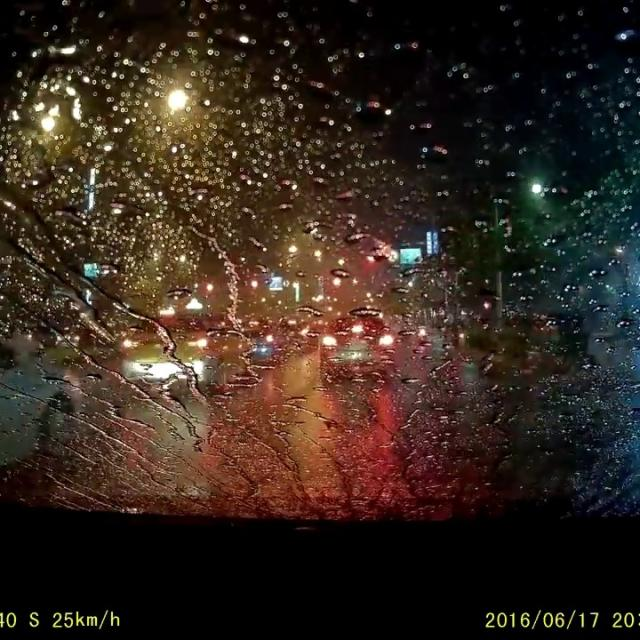Car: (0, 330, 82, 468), (118, 307, 249, 393), (316, 314, 397, 384), (234, 325, 288, 365), (278, 315, 316, 352)
